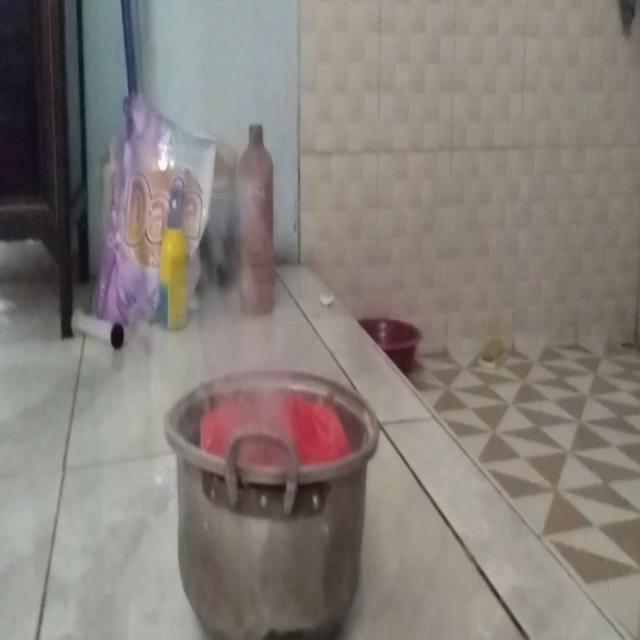fire: (154, 0, 272, 369)
